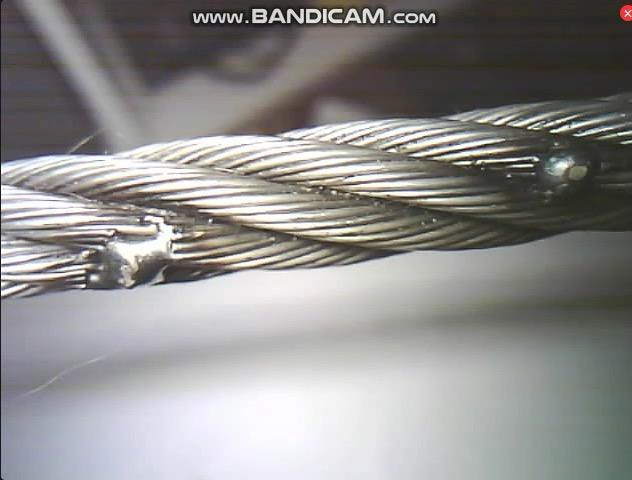thunderbolt: (88, 215, 200, 285), (533, 124, 603, 204)
